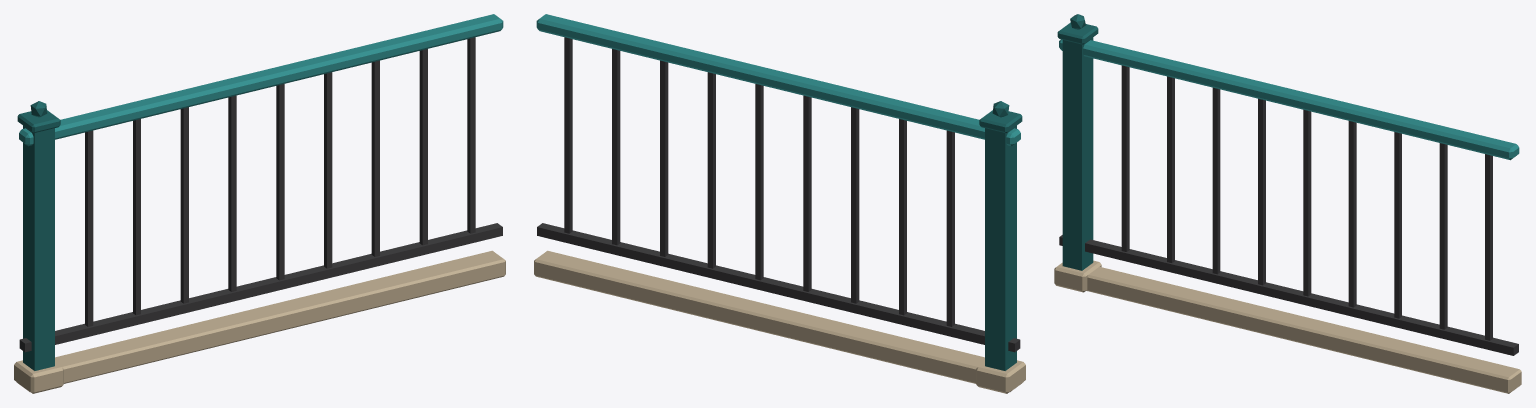
The model's file is railing.glb.
3 renders of one model, left to right at view 1: azimuth 30°, elevation 25°; view 2: azimuth 150°, elevation 25°; view 3: azimuth 330°, elevation 25°, orthographic. The views are drawn at different scales.
Parts seen in each view (by area): view 1: body; view 2: body; view 3: body.
Boxes of the visible parts, bbox=[...] form: body: bbox=[14, 14, 505, 393]; body: bbox=[534, 14, 1025, 393]; body: bbox=[1054, 14, 1521, 393].
Bounding box in the file's own units: 2 × 1.13 × 0.14.
